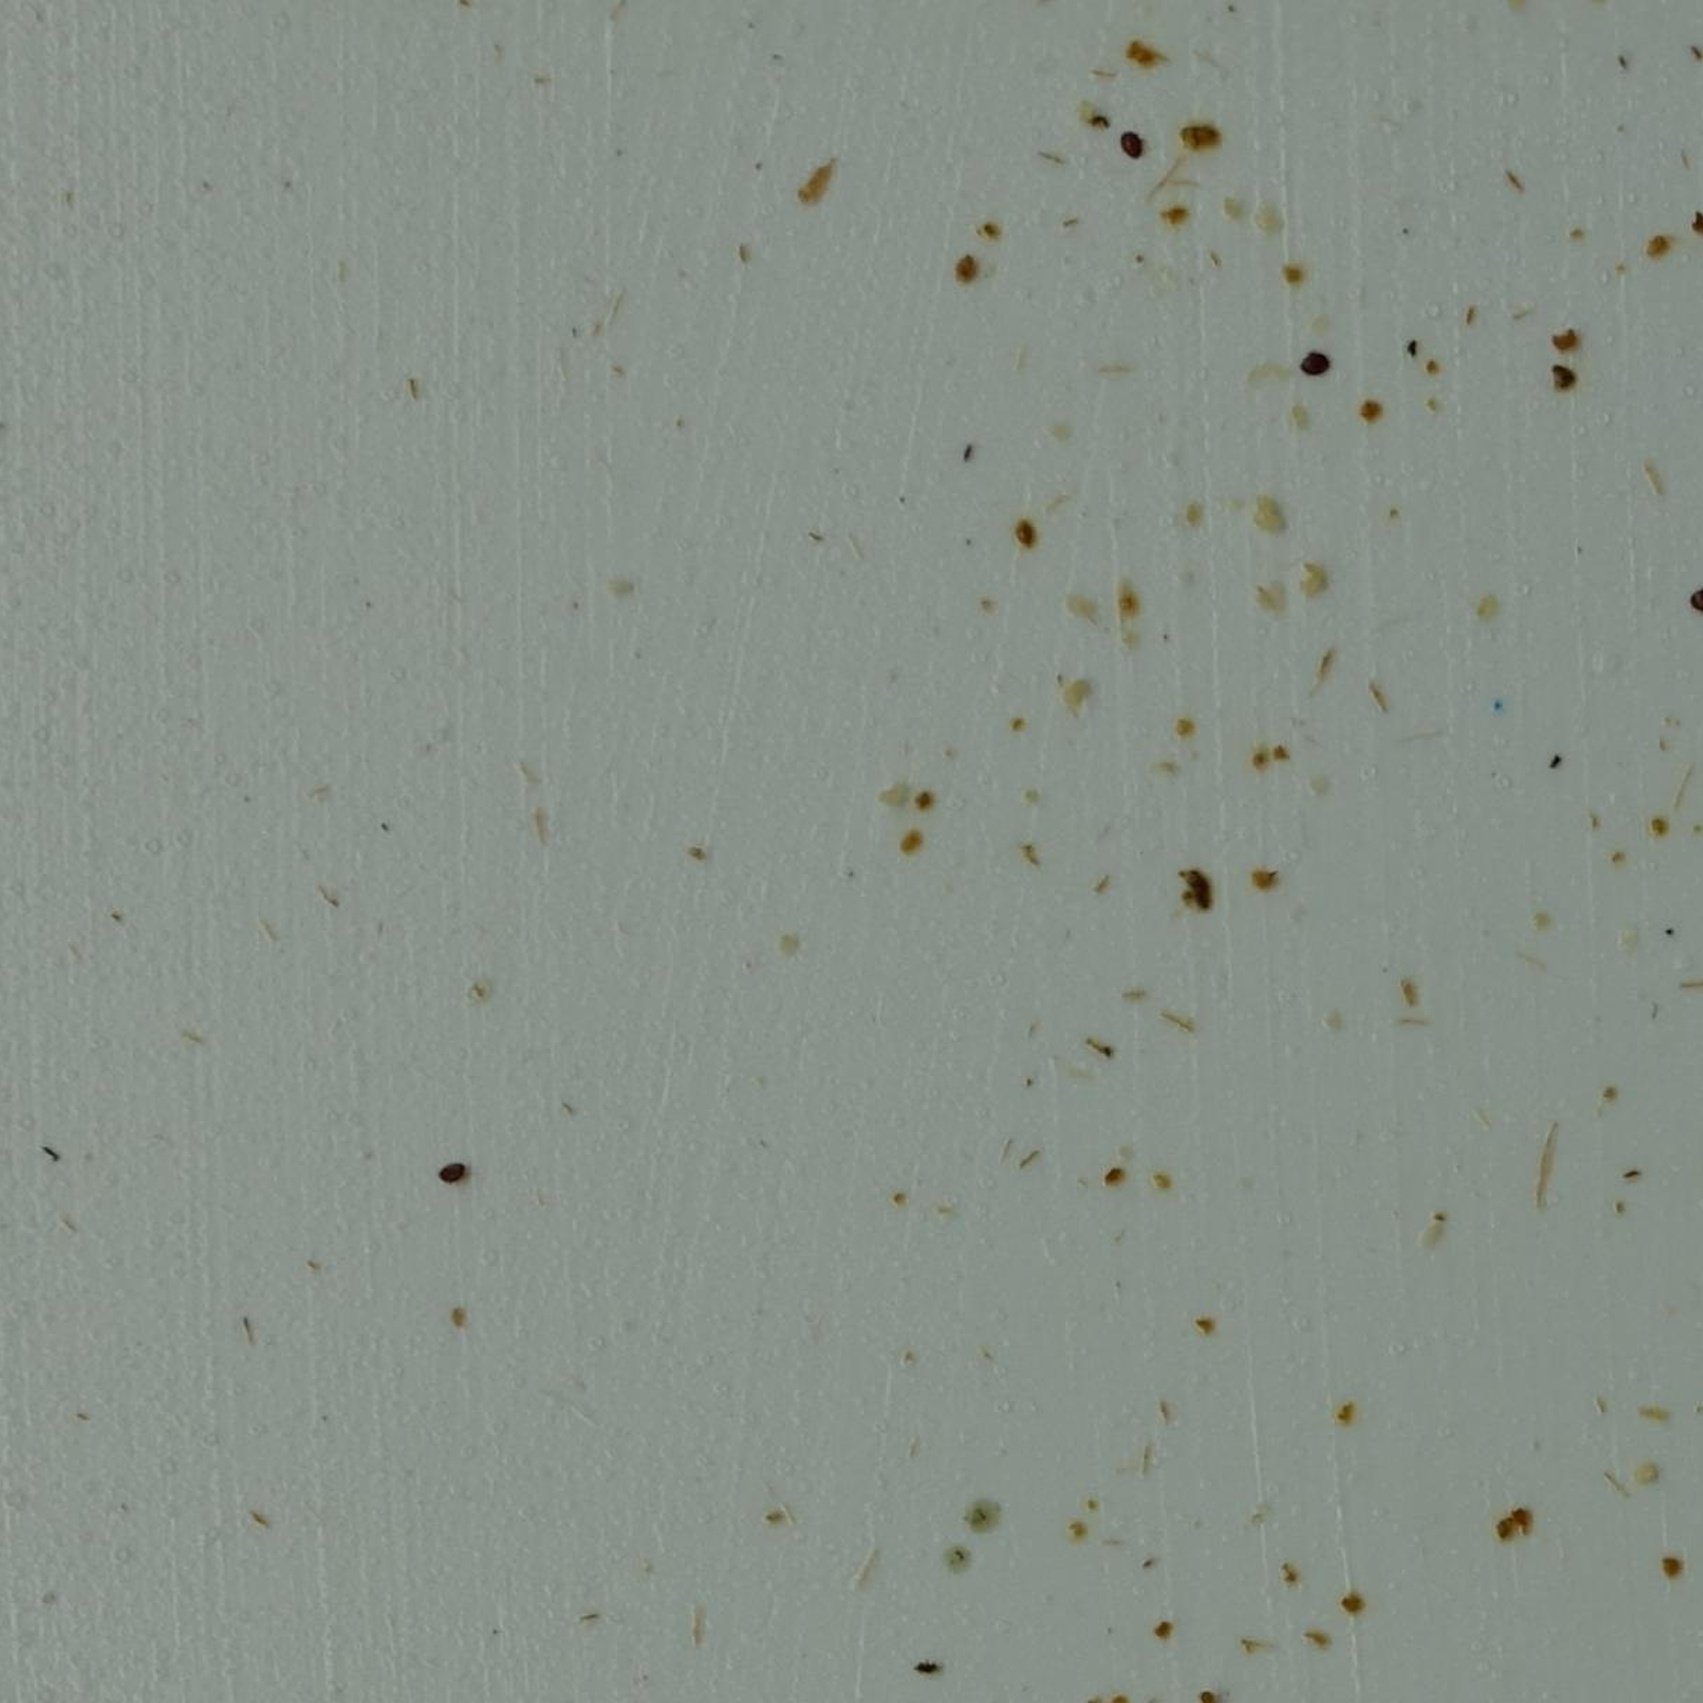Varroa: (1304, 345, 1330, 370), (1118, 126, 1142, 151), (444, 1160, 466, 1185)
